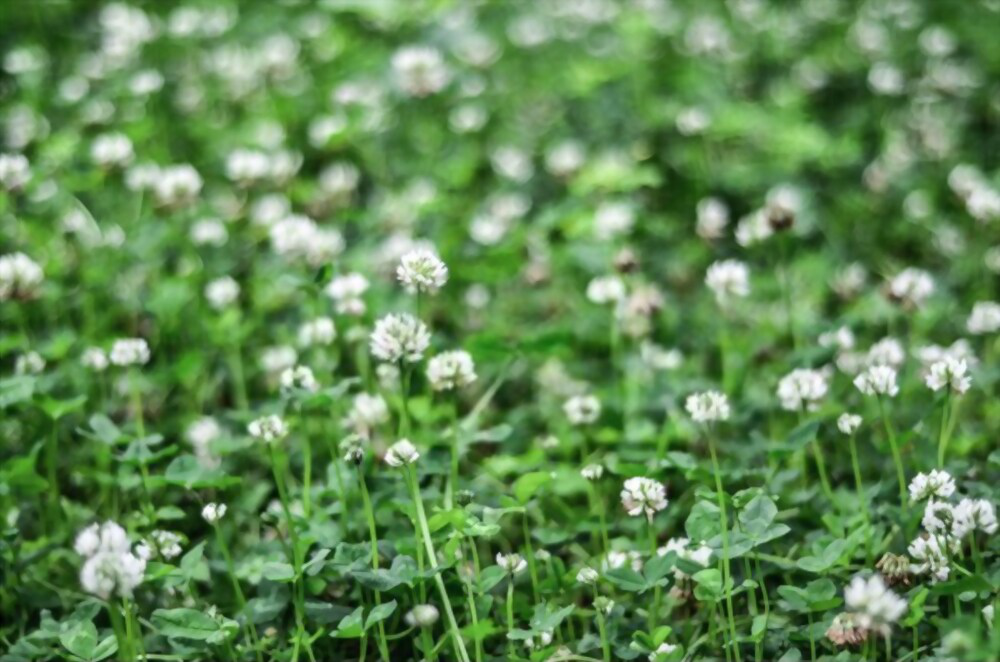clover: (17, 218, 986, 653)
